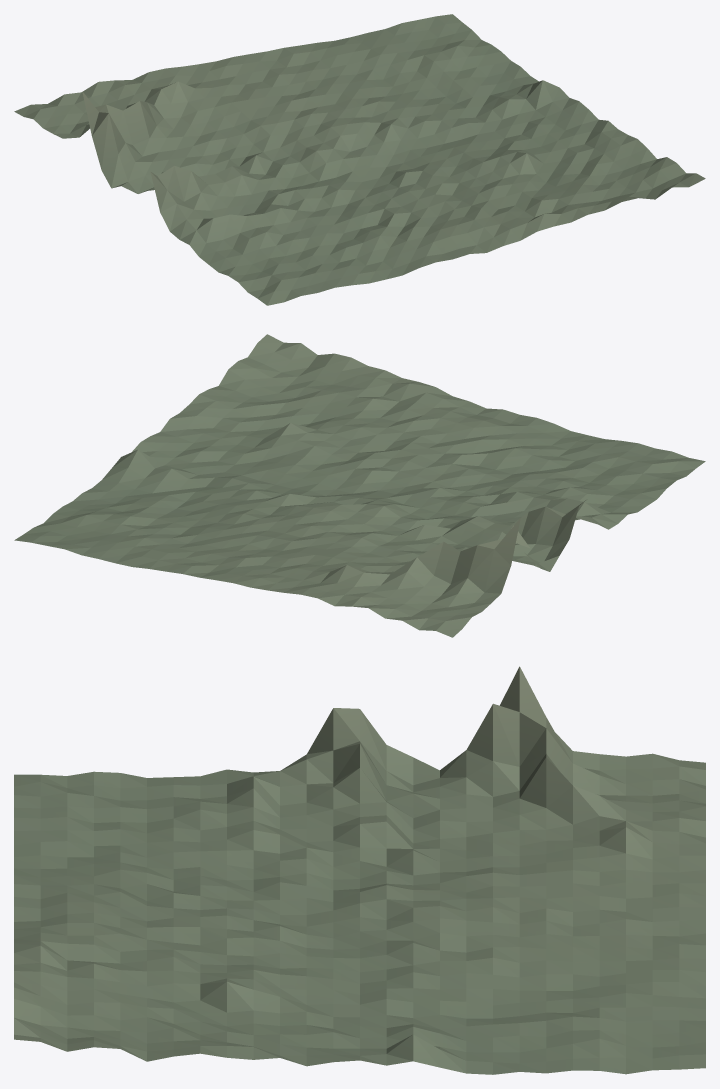
Rendered from tile_0_0.glb.
The picture shows the model from 3 angles, top to bottom: view 1: azimuth 30°, elevation 25°; view 2: azimuth 150°, elevation 25°; view 3: azimuth 270°, elevation 25°; orthographic projection. The views are drawn at different scales.
Visible parts, largest first — view 1: geometry_0; view 2: geometry_0; view 3: geometry_0.
Boxes of the visible parts, x1,y1,x2,y2 form: geometry_0: (14,14,705,305); geometry_0: (14,334,705,637); geometry_0: (14,666,705,1074).
Size of the model in its own units: 127 by 23.63 by 127.
